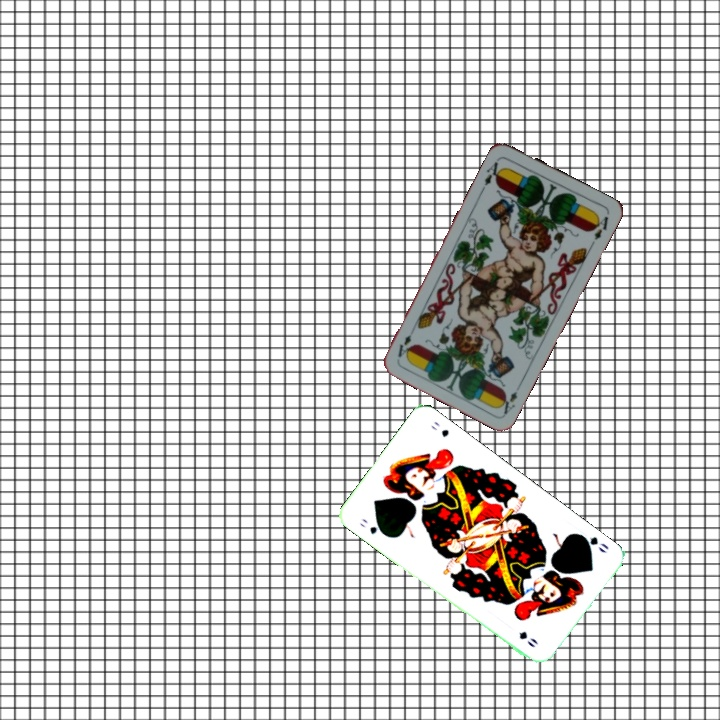EA: (495, 379, 523, 417), (480, 155, 506, 188)
GO: (575, 530, 611, 556), (356, 514, 389, 538)
